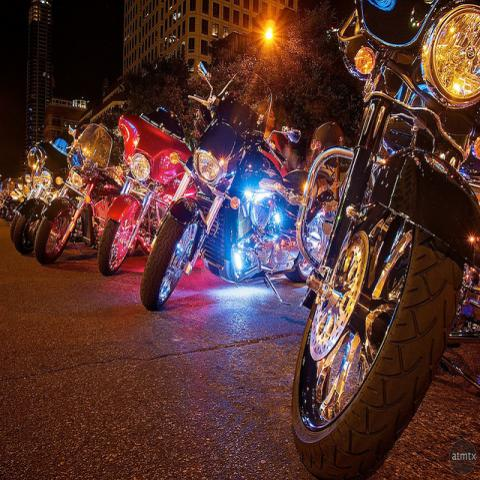motorcycle: (292, 1, 479, 473), (138, 61, 309, 310), (98, 107, 194, 276), (32, 122, 120, 267), (12, 139, 71, 257), (0, 178, 27, 218)
